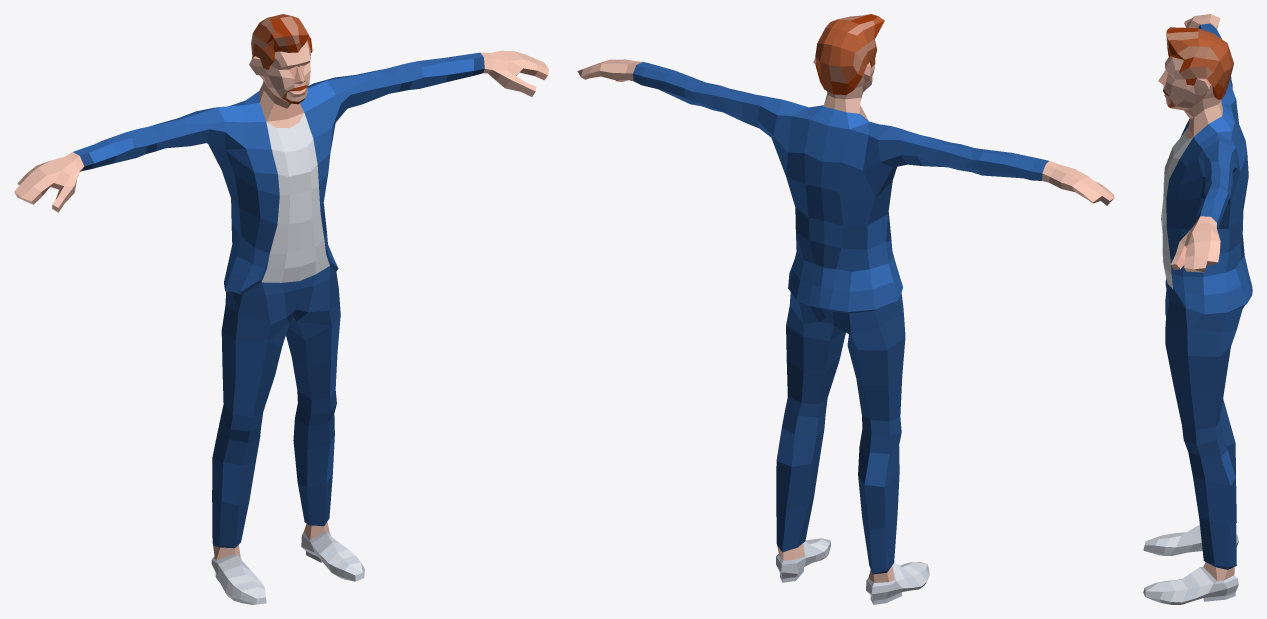
File: night_Male_A-model.fbx
3 views of the same model, side by side, from view 1: azimuth 30°, elevation 25°; view 2: azimuth 150°, elevation 25°; view 3: azimuth 270°, elevation 25° (orthographic). The views are drawn at different scales.
Parts seen in each view (by area): view 1: night_Male_A, acc_men_hair_brown; view 2: night_Male_A, acc_men_hair_brown; view 3: night_Male_A, acc_men_hair_brown.
Part boxes in pixels (x1=…): night_Male_A: x1=14, y1=40, x2=548, y2=604; acc_men_hair_brown: x1=251, y1=14, x2=312, y2=69; night_Male_A: x1=577, y1=57, x2=1114, y2=604; acc_men_hair_brown: x1=815, y1=14, x2=884, y2=94; night_Male_A: x1=1143, y1=14, x2=1252, y2=604; acc_men_hair_brown: x1=1166, y1=27, x2=1233, y2=99.
Size of the model in its own units: 182 by 183 by 33.5.
1 material, 1 textured.
